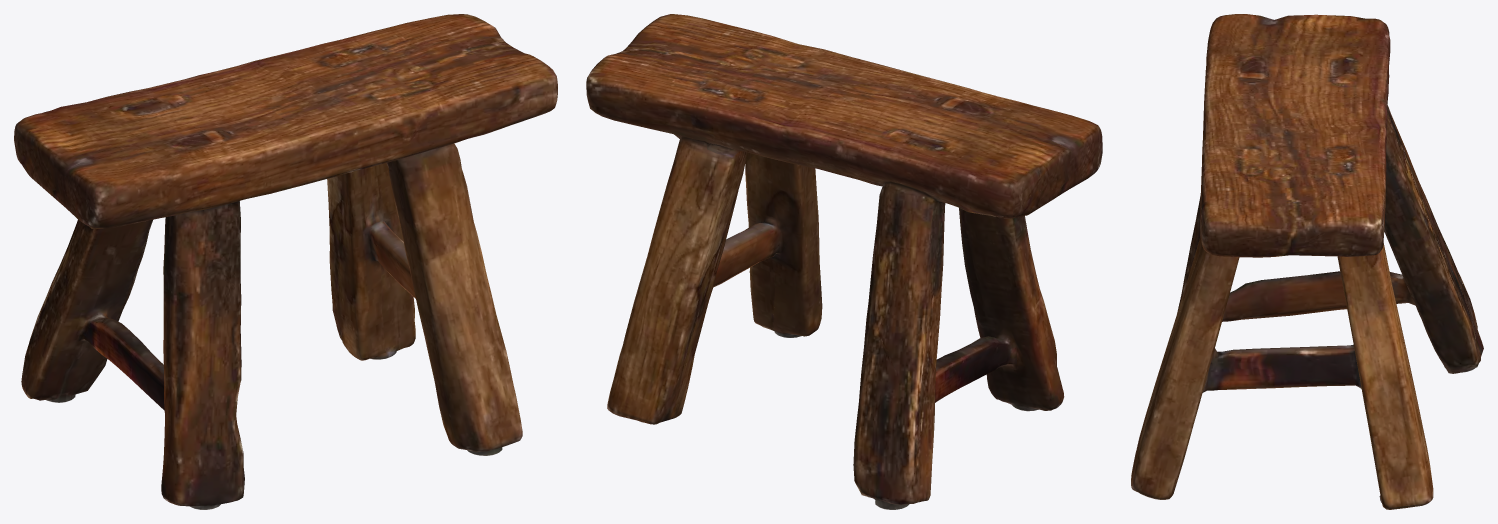
The model's file is wooden_stool_02.glb.
3 views of the same model, side by side, from view 1: azimuth 30°, elevation 25°; view 2: azimuth 150°, elevation 25°; view 3: azimuth 270°, elevation 25° (orthographic). The views are drawn at different scales.
Visible parts, largest first — view 1: wooden_stool_02; view 2: wooden_stool_02; view 3: wooden_stool_02.
Boxes of the visible parts, box(x1,y1,x2,y2) form: wooden_stool_02: box(14, 14, 557, 509); wooden_stool_02: box(586, 14, 1102, 509); wooden_stool_02: box(1131, 14, 1483, 509).
Bounding box in the file's own units: 0.2652 × 0.182 × 0.1831.
Materials: 1 (1 with a texture image).
